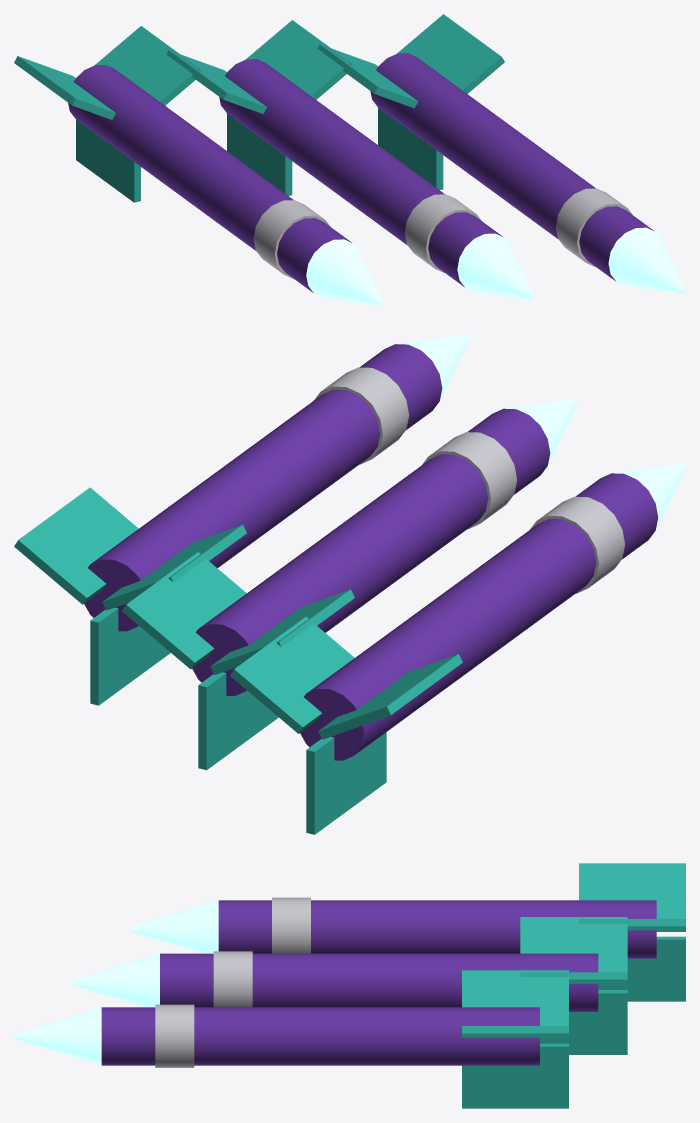
File: item.ammunition.synapse_dart.glb
3 views of the same model, one above another, from view 1: azimuth 30°, elevation 25°; view 2: azimuth 150°, elevation 25°; view 3: azimuth 270°, elevation 25° (orthographic). The views are drawn at different scales.
Parts seen in each view (by area): view 1: _MeshInstance3D_30, _MeshInstance3D_23, _MeshInstance3D_16, _MeshInstance3D_34, _MeshInstance3D_27, _MeshInstance3D_20, _MeshInstance3D_17, _MeshInstance3D_31, _MeshInstance3D_24, _MeshInstance3D_19, _MeshInstance3D_33, _MeshInstance3D_26 (+6 smaller); view 2: _MeshInstance3D_16, _MeshInstance3D_30, _MeshInstance3D_23, _MeshInstance3D_34, _MeshInstance3D_20, _MeshInstance3D_27, _MeshInstance3D_19, _MeshInstance3D_33, _MeshInstance3D_26, _MeshInstance3D_25, _MeshInstance3D_18, _MeshInstance3D_32 (+6 smaller); view 3: _MeshInstance3D_30, _MeshInstance3D_23, _MeshInstance3D_16, _MeshInstance3D_33, _MeshInstance3D_21, _MeshInstance3D_35, _MeshInstance3D_28, _MeshInstance3D_19, _MeshInstance3D_26, _MeshInstance3D_31, _MeshInstance3D_17, _MeshInstance3D_24 (+6 smaller).
Part boxes in pixels (left/top/right/bottom): _MeshInstance3D_30: left=370, top=53, right=654, bottom=281; _MeshInstance3D_23: left=219, top=59, right=502, bottom=287; _MeshInstance3D_16: left=68, top=65, right=351, bottom=292; _MeshInstance3D_34: left=397, top=14, right=504, bottom=93; _MeshInstance3D_27: left=246, top=20, right=352, bottom=99; _MeshInstance3D_20: left=94, top=26, right=201, bottom=105; _MeshInstance3D_17: left=306, top=239, right=383, bottom=305; _MeshInstance3D_31: left=608, top=227, right=685, bottom=294; _MeshInstance3D_24: left=457, top=233, right=534, bottom=299; _MeshInstance3D_19: left=76, top=119, right=140, bottom=202; _MeshInstance3D_33: left=378, top=107, right=443, bottom=190; _MeshInstance3D_26: left=227, top=113, right=292, bottom=195; _MeshInstance3D_16: left=300, top=473, right=658, bottom=760; _MeshInstance3D_30: left=84, top=344, right=442, bottom=631; _MeshInstance3D_23: left=192, top=408, right=550, bottom=695; _MeshInstance3D_34: left=14, top=487, right=138, bottom=604; _MeshInstance3D_20: left=230, top=617, right=354, bottom=733; _MeshInstance3D_27: left=122, top=552, right=246, bottom=669; _MeshInstance3D_19: left=306, top=732, right=386, bottom=834; _MeshInstance3D_33: left=90, top=607, right=170, bottom=705; _MeshInstance3D_26: left=198, top=672, right=278, bottom=770; _MeshInstance3D_25: left=422, top=432, right=516, bottom=529; _MeshInstance3D_18: left=530, top=496, right=624, bottom=593; _MeshInstance3D_32: left=314, top=367, right=409, bottom=464; _MeshInstance3D_30: left=101, top=1007, right=539, bottom=1065; _MeshInstance3D_23: left=160, top=953, right=598, bottom=1011; _MeshInstance3D_16: left=218, top=900, right=656, bottom=958; _MeshInstance3D_33: left=462, top=1043, right=568, bottom=1108; _MeshInstance3D_21: left=579, top=863, right=685, bottom=918; _MeshInstance3D_35: left=462, top=970, right=568, bottom=1025; _MeshInstance3D_28: left=520, top=917, right=627, bottom=972; _MeshInstance3D_19: left=598, top=936, right=685, bottom=1001; _MeshInstance3D_26: left=540, top=990, right=627, bottom=1054; _MeshInstance3D_31: left=14, top=1007, right=101, bottom=1065; _MeshInstance3D_17: left=131, top=900, right=218, bottom=953; _MeshInstance3D_24: left=72, top=954, right=159, bottom=1007.
Bounding box in the file's own units: 0.6997 × 0.2143 × 1.2.
